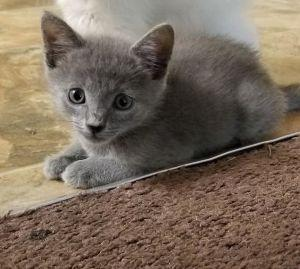rblue: (34, 11, 187, 156)
